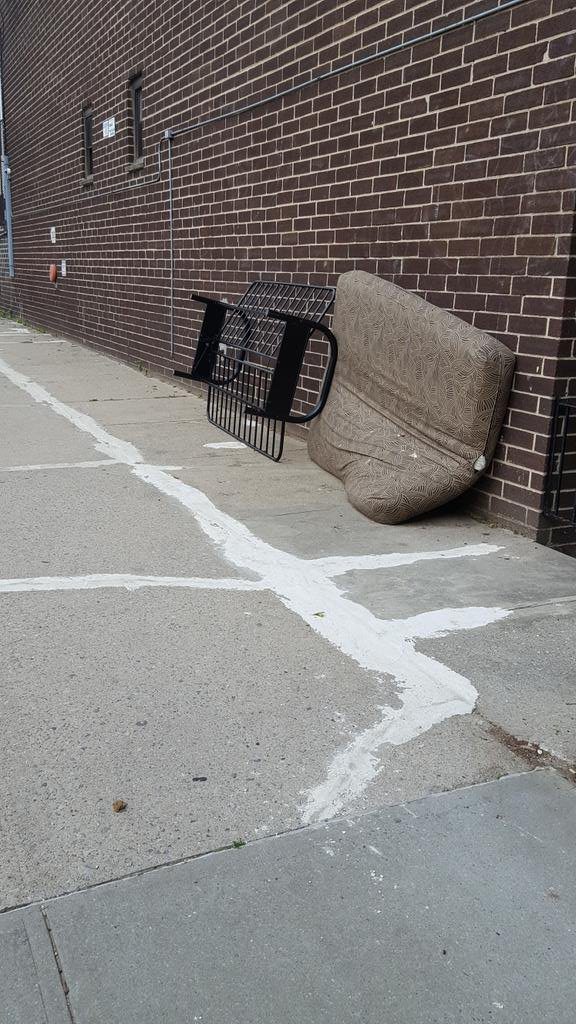trash: (177, 267, 493, 530)
wall: (1, 1, 558, 535)
